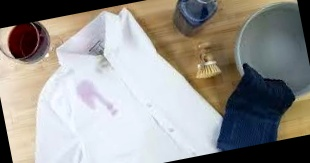wine: (70, 74, 105, 115), (102, 92, 123, 119)
